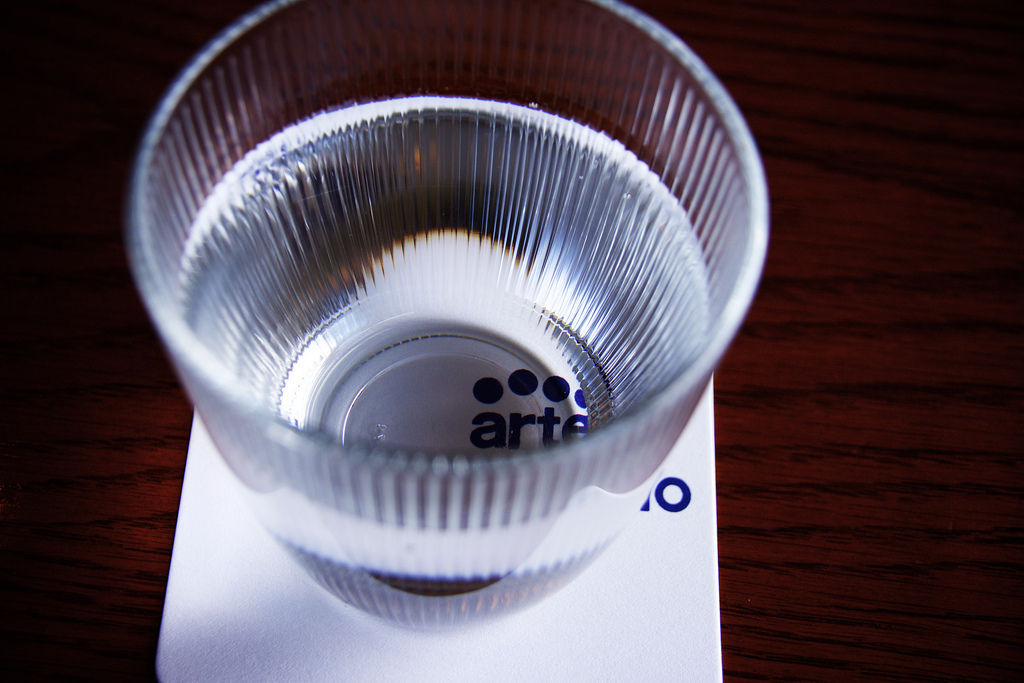glass of water: (125, 1, 789, 640)
